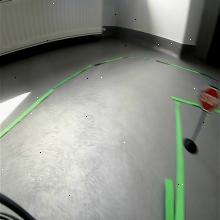stop: (199, 84, 220, 115)
